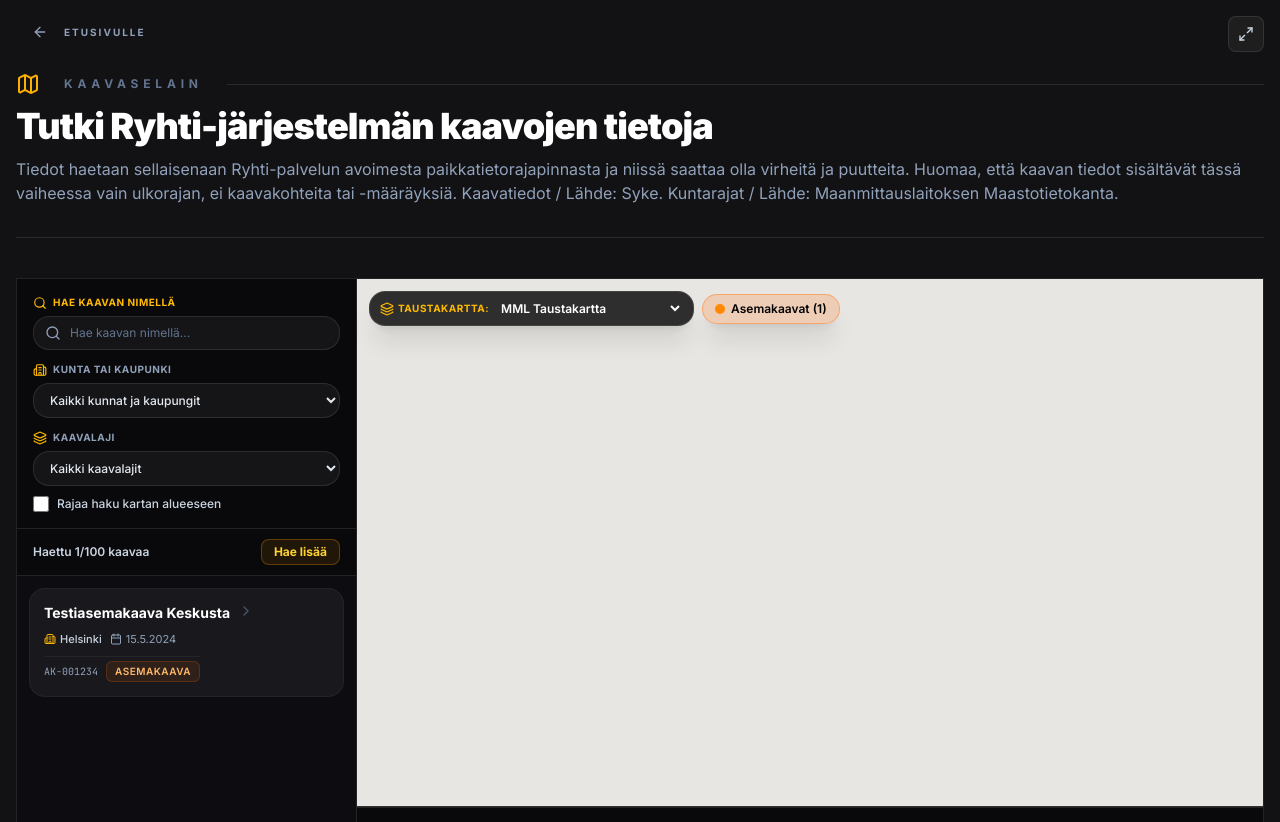
Test: PlanExplorerView Component › supports pagination with load more button showing numberMatched total
Step 1. Select "Helsinki (25 kpl)" in the dropdown below "Kunta tai kaupunki" → (186, 400), box x1=33 y1=383 x2=340 y2=418
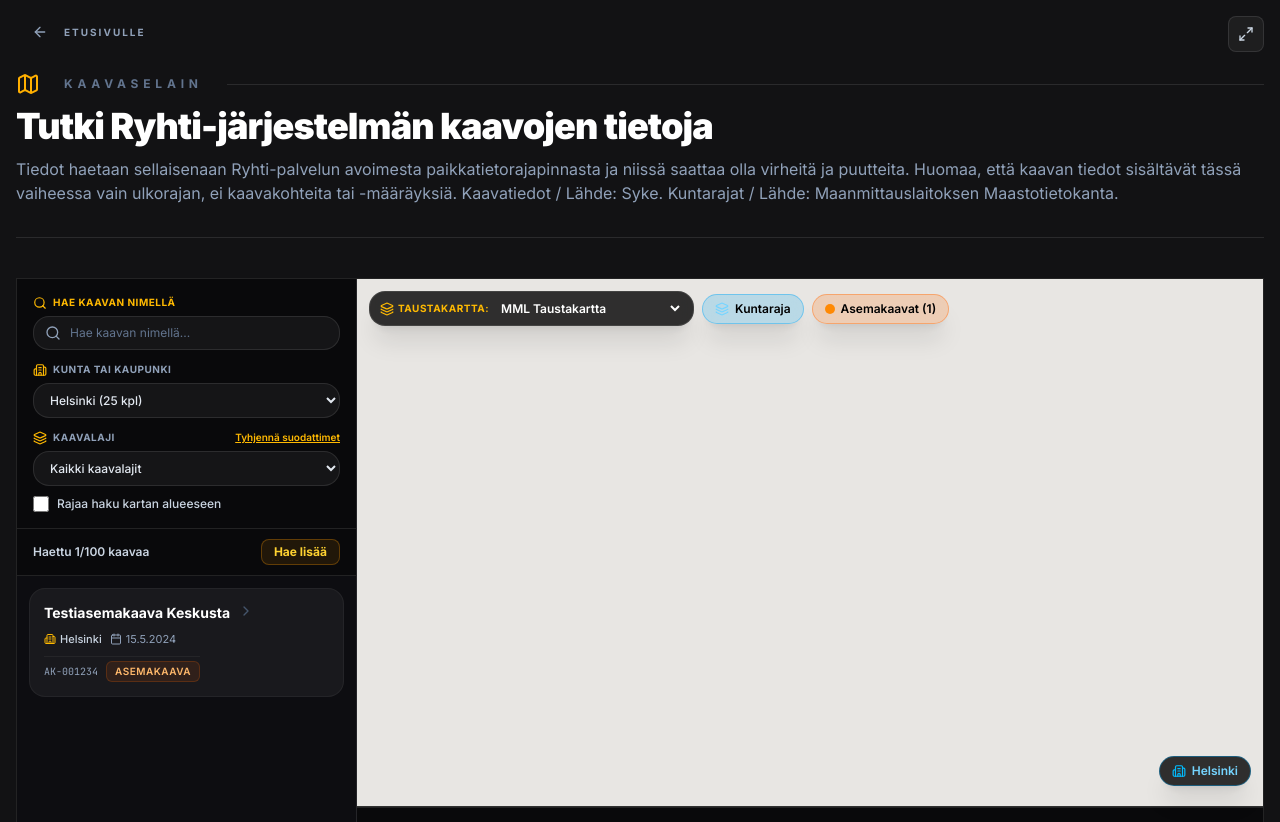
Check: the text "Testiasemakaava Keskusta" is shown, box x1=44 y1=603 x2=230 y2=623
Check: the text "Hae lisää" is shown, box x1=274 y1=544 x2=327 y2=560
Step 2. Click the button "Hae lisää" → (300, 552), box x1=261 y1=539 x2=340 y2=565
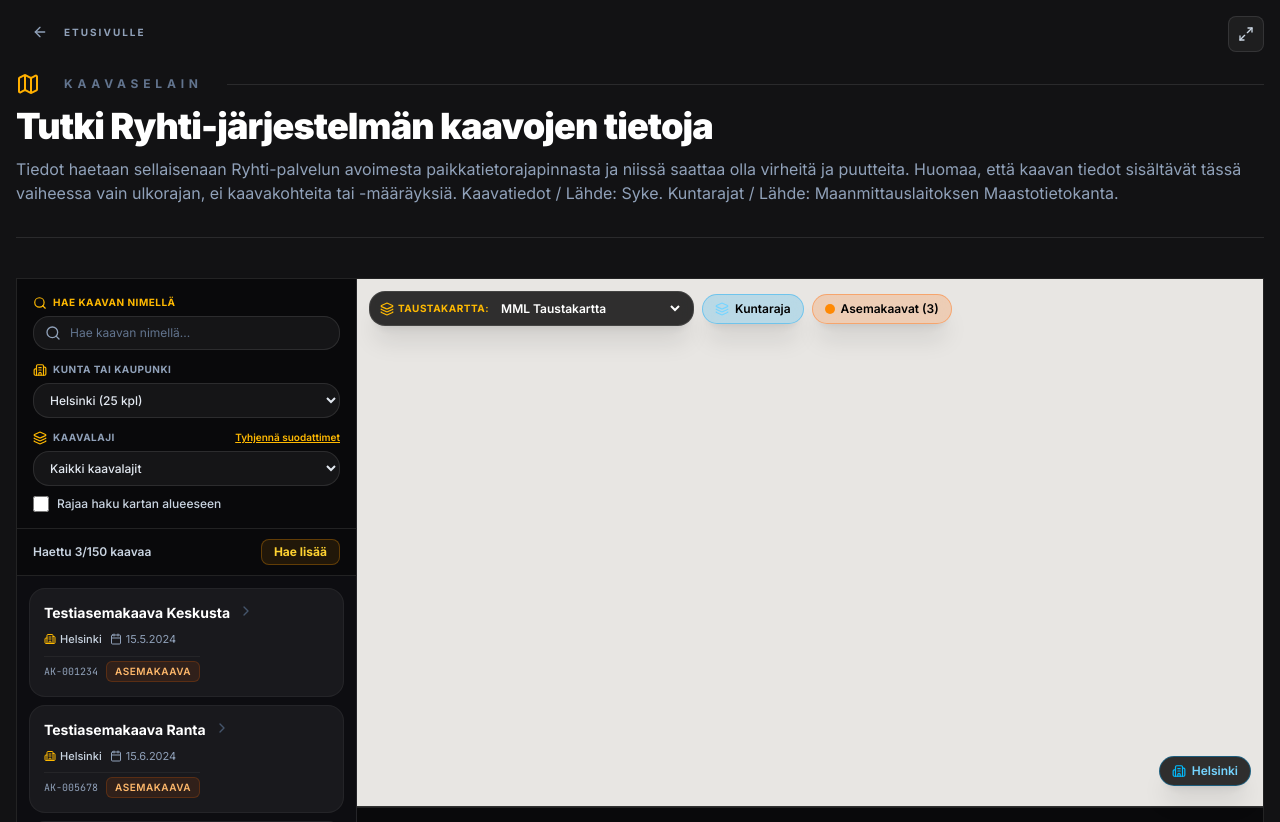
Check: the text "Testiasemakaava Ranta" is shown, box x1=44 y1=720 x2=206 y2=740
